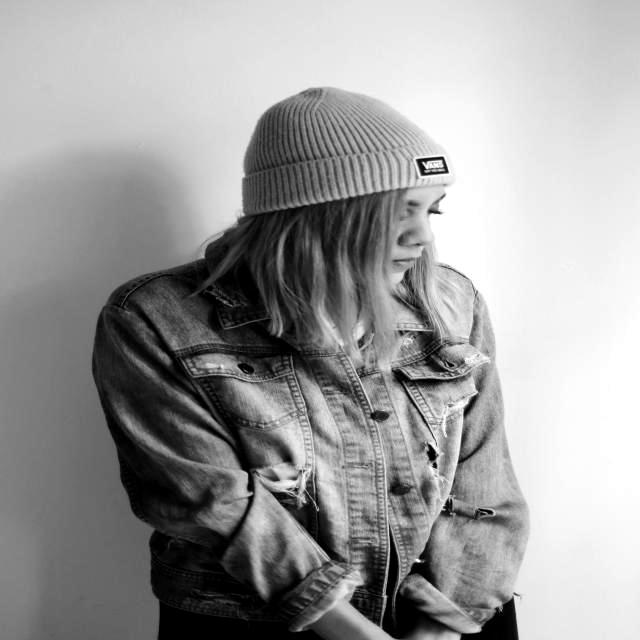no_hard_hat: (242, 87, 454, 216)
person: (93, 88, 529, 640)
